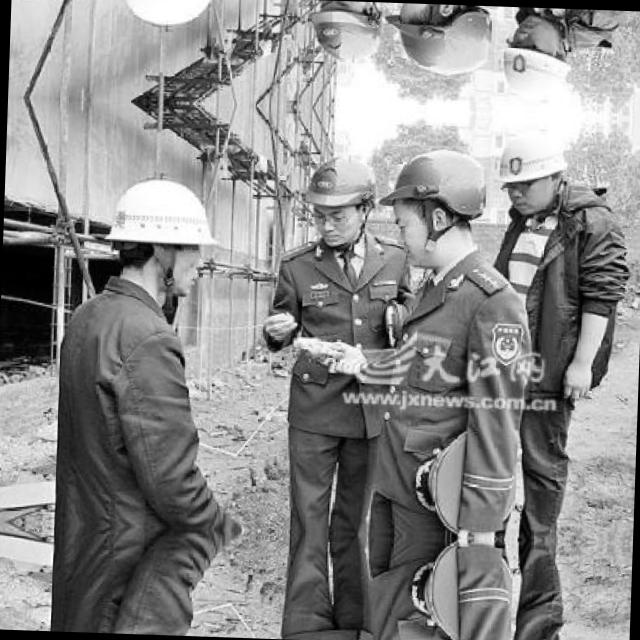helmet: (102, 168, 214, 296), (390, 142, 486, 268), (396, 2, 492, 80), (493, 121, 567, 216), (497, 11, 571, 106), (302, 144, 372, 242), (307, 0, 378, 70), (111, 0, 221, 34)
